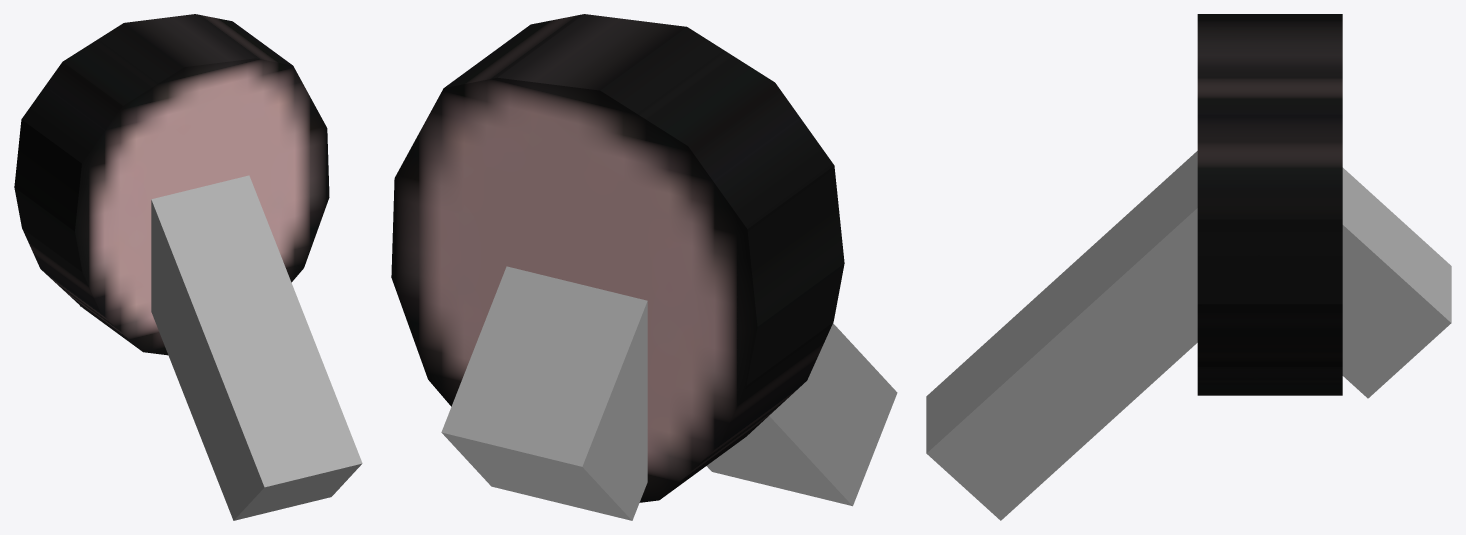
File: Mano_Pistola.fbx
3 views of the same model, side by side, from view 1: azimuth 30°, elevation 25°; view 2: azimuth 150°, elevation 25°; view 3: azimuth 270°, elevation 25° (orthographic). The views are drawn at different scales.
Visible parts, largest first — view 1: pCube2; view 2: pCube2; view 3: pCube2.
Part boxes in pixels (box(x1,y1,x2,y2)): pCube2: box(14, 14, 362, 520); pCube2: box(391, 14, 897, 520); pCube2: box(926, 14, 1451, 520).
Bounding box in the file's own units: 0.1066 × 0.1543 × 0.159.
